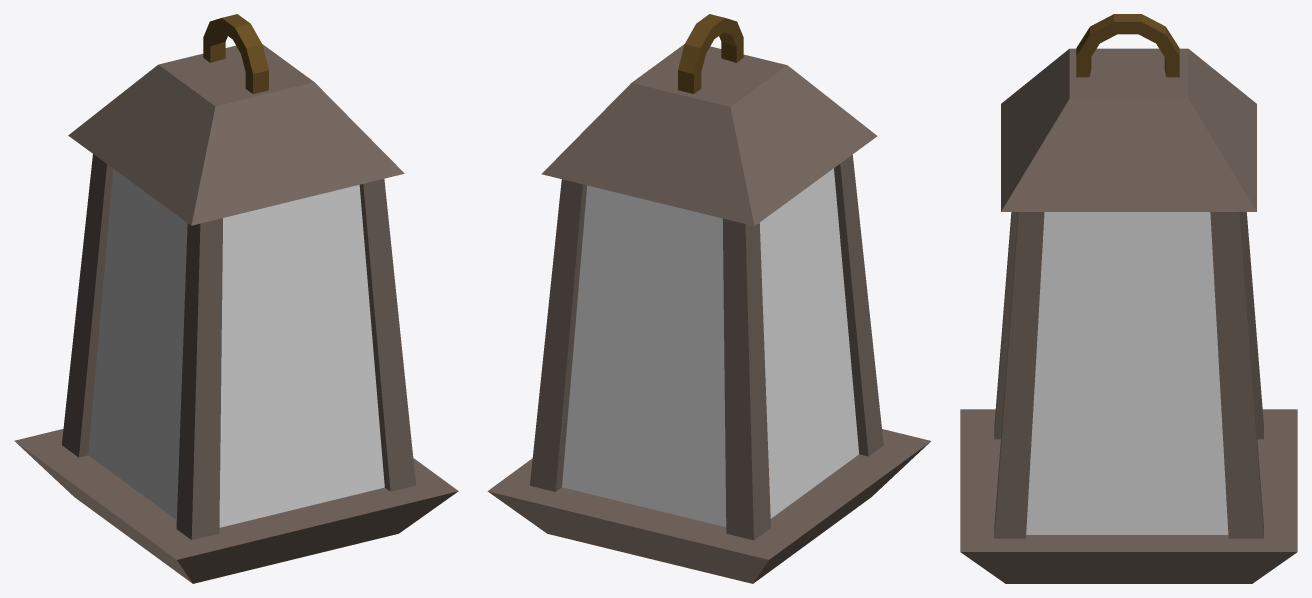
The model's file is Lantern.fbx.
3 views of the same model, side by side, from view 1: azimuth 30°, elevation 25°; view 2: azimuth 150°, elevation 25°; view 3: azimuth 270°, elevation 25° (orthographic). The views are drawn at different scales.
Visible parts, largest first — view 1: Cube, Cube.001; view 2: Cube, Cube.001; view 3: Cube, Cube.001.
Part boxes in pixels (x1,y1,x2,y2): Cube: (14,14,458,583); Cube.001: (88,169,384,527); Cube: (487,14,930,583); Cube.001: (562,168,858,527); Cube: (960,14,1297,583); Cube.001: (1026,212,1228,534).
Bounding box in the file's own units: 92.08 × 155 × 92.08.
